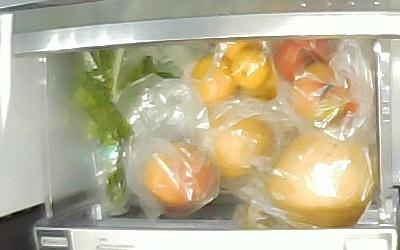peach_vinyl: (141, 143, 214, 209)
pear_vinyl: (265, 132, 372, 228), (200, 114, 275, 176)
tangerine_vinyl: (192, 54, 238, 106), (230, 47, 271, 89), (240, 72, 277, 101), (224, 40, 261, 62)
tomato_vinyl: (273, 39, 333, 84), (291, 63, 337, 119), (313, 87, 359, 128)
